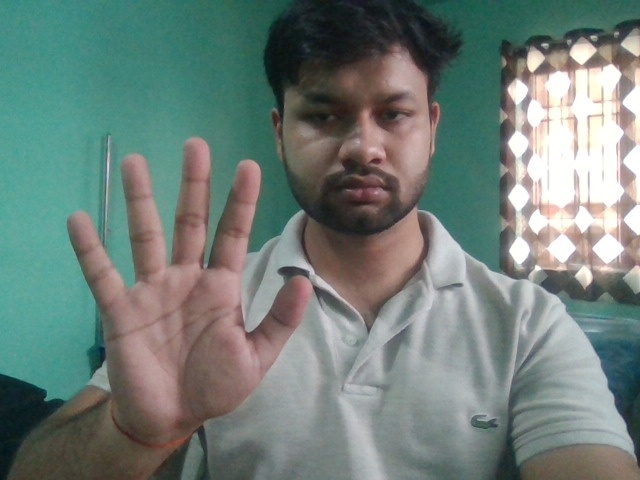Hello: (58, 132, 316, 450)
